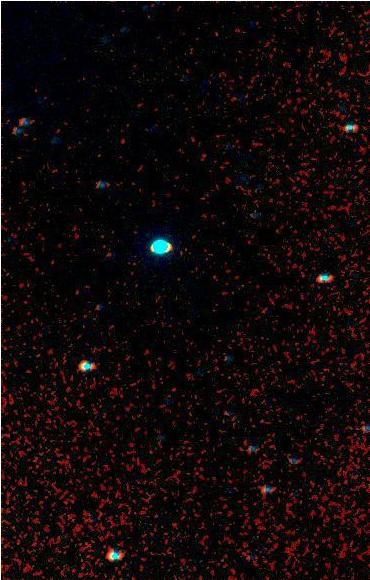star: (171, 231, 201, 261)
